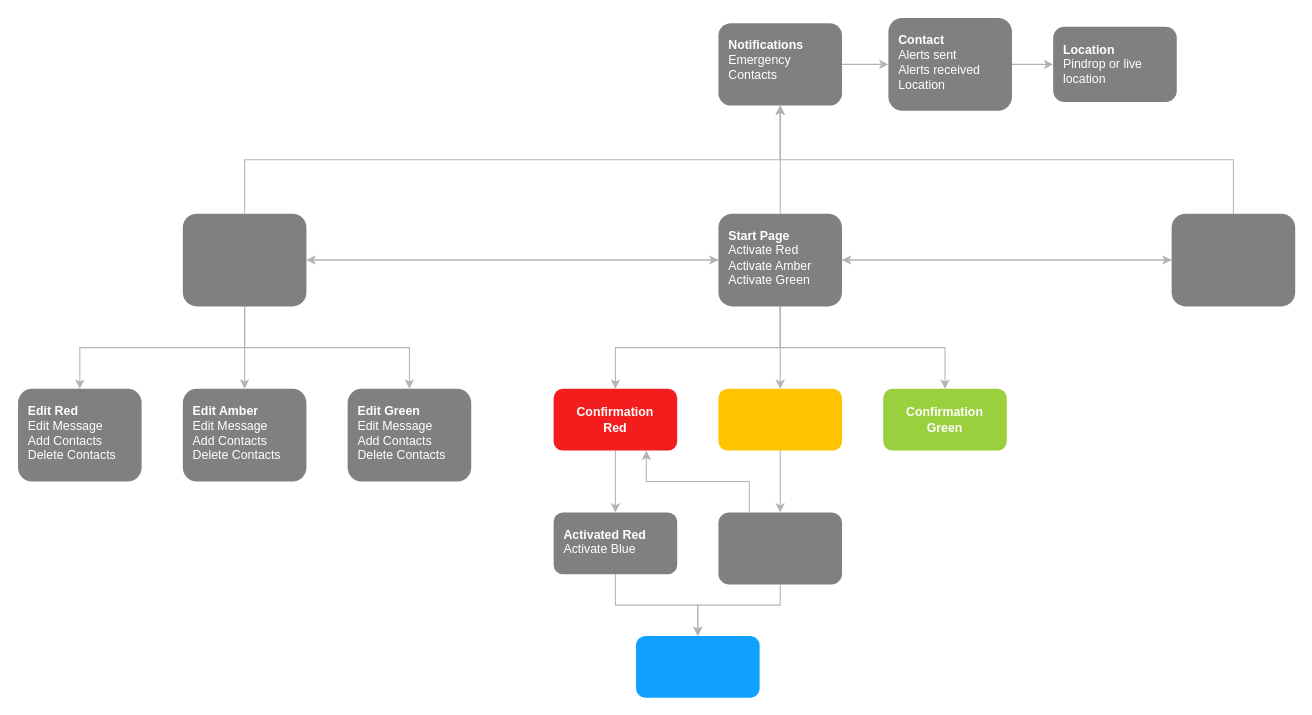
The diagram is 1312 pixels wide and 715 high, and some of its shapes have lost their labels. Here are the shapes that lost their labels. From the top down, the centre of each, then its label:
At [244,259]: "Edit Edit Red Edit Amber Edit Green".
At [1233,259]: "Settings Profile Settings Buy Platinum History".
At [780,419]: "Confirmation Amber".
At [780,548]: "Activated Amber Activate Blue Activate Red".
At [697,666]: "Confirmation Blue".
